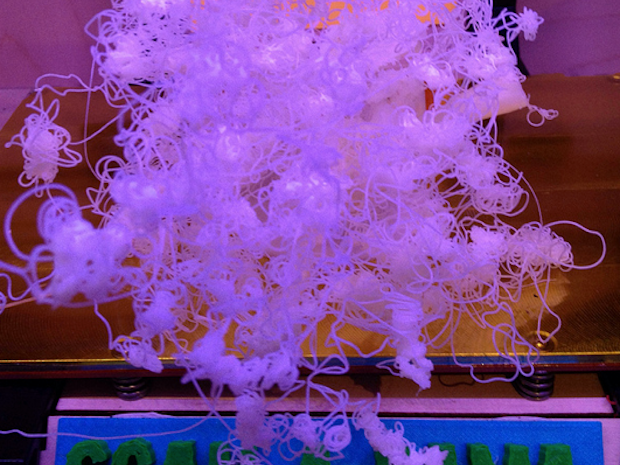Fail: (20, 6, 606, 414)
